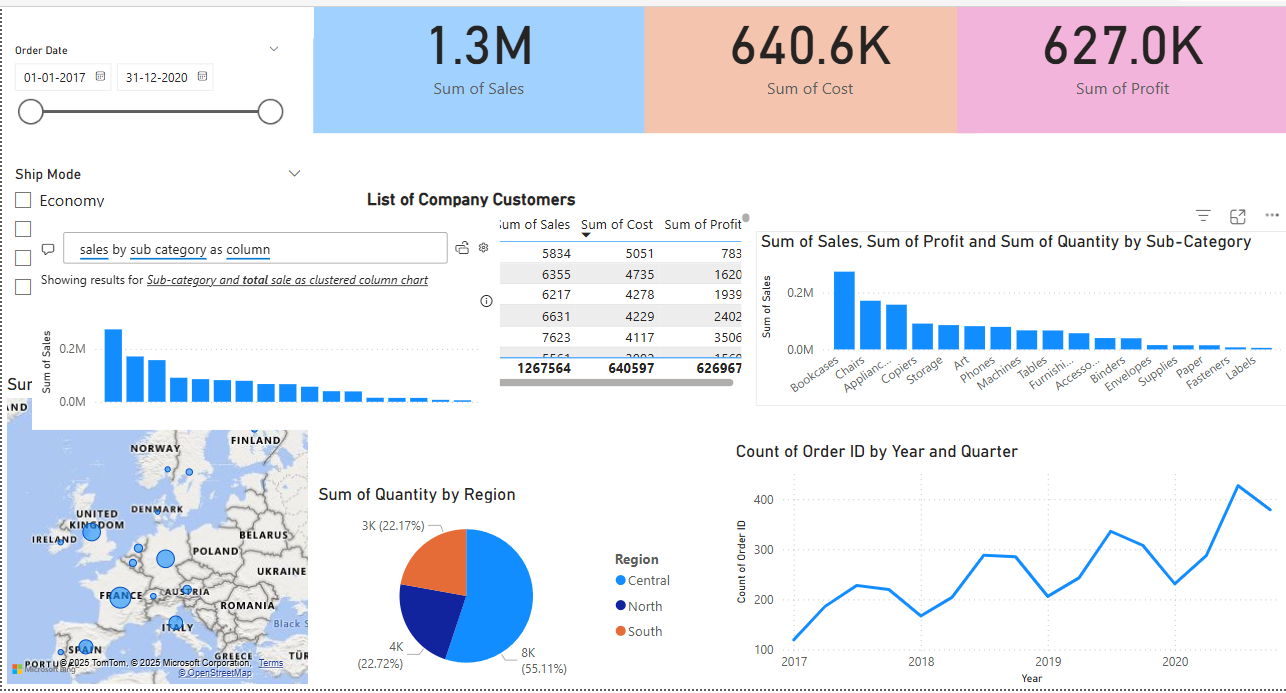

The dashboard page shown, as its layout file describes it:
{"tool":"powerbi","page":{"name":"Page 1","canvas":[1280,720],"ordinal":0},"visuals":[{"type":"card","fields":{"Values":["Sum(List of Orders.Sales)"]},"box":[310,0,330,166],"z":0},{"type":"card","fields":{"Values":["Sum(List of Orders.Cost)"]},"box":[640,0,330,166],"z":1000},{"type":"tableEx","title":"List of Company Customers","fields":{"Values":["List of Orders.Customer Name","Sum(List of Orders.Sales)","Sum(List of Orders.Cost)","Sum(List of Orders.Profit)"]},"box":[358.6,221.4,391.4,202.9],"z":2000},{"type":"card","fields":{"Values":["Sum(List of Orders.Profit)"]},"box":[950,0,330,166],"z":3000},{"type":"clusteredColumnChart","fields":{"Y":["Sum(List of Orders.Sales)"],"Category":["List of Orders.Sub-Category"]},"box":[750.1,263.7,529.9,174.2],"z":4000},{"type":"lineChart","fields":{"Y":["CountNonNull(List of Orders.Order ID)"],"Category":["List of Orders.Order Date.Variation.Date Hierarchy.Year","List of Orders.Order Date.Variation.Date Hierarchy.Quarter"]},"box":[725,472.5,555,247.5],"z":5000},{"type":"pieChart","fields":{"Y":["Sum(List of Orders.Quantity)"],"Category":["List of Orders.Region"]},"box":[310,515,370,205],"z":6000},{"type":"map","fields":{"Category":["List of Orders.Country"],"Size":["Sum(List of Orders.Sales)"]},"box":[0,406,310,314],"z":7000},{"type":"textbox","box":[0,0,310,72],"z":8000},{"type":"slicer","fields":{"Values":["List of Orders.Ship Mode"]},"box":[0,194,310,166],"z":9000},{"type":"slicer","fields":{"Values":["List of Orders.Order Date"]},"box":[0,72,288,94],"z":10000}]}

Visuals, with their boxes on the page's 1280x720 design canvas (x1, y1, x2, y2). These are canvas units, not pixel positions in the 1286x693 screenshot, which may show the page scaled, cropped or inside an application window:
card - Sum(List of Orders.Sales): box=[310, 0, 640, 166]
card - Sum(List of Orders.Cost): box=[640, 0, 970, 166]
"List of Company Customers" tableEx: box=[359, 221, 750, 424]
card - Sum(List of Orders.Profit): box=[950, 0, 1280, 166]
clusteredColumnChart - Sum(List of Orders.Sales) x List of Orders.Sub-Category: box=[750, 264, 1280, 438]
lineChart - CountNonNull(List of Orders.Order ID) x List of Orders.Order Date.Variation.Date Hierarchy.Year: box=[725, 472, 1280, 720]
pieChart - Sum(List of Orders.Quantity) x List of Orders.Region: box=[310, 515, 680, 720]
map - List of Orders.Country x Sum(List of Orders.Sales): box=[0, 406, 310, 720]
textbox: box=[0, 0, 310, 72]
slicer - List of Orders.Ship Mode: box=[0, 194, 310, 360]
slicer - List of Orders.Order Date: box=[0, 72, 288, 166]
